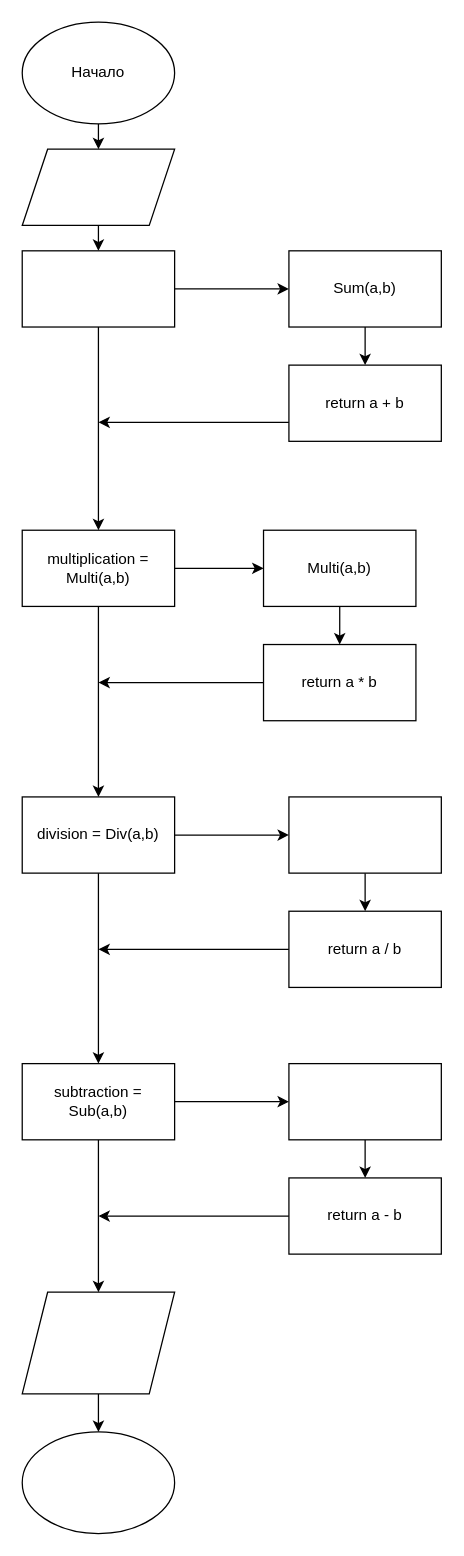
The diagram is 464 pixels wide and 1556 high, and some of its shapes have lost their labels. The centre of each missing label's shape, as x and y in pixels:
"addition = Sum(a,b)" goes at [98,288].
"Div(a,b)" goes at [364,834].
"Sub(a,b)" goes at [364,1101].
"Ввод: num1, num2" goes at [98,186].
"Вывод: Sum(a,b) Multi(a,b) Div(a,b) Sub(a,b)" goes at [98,1342].
